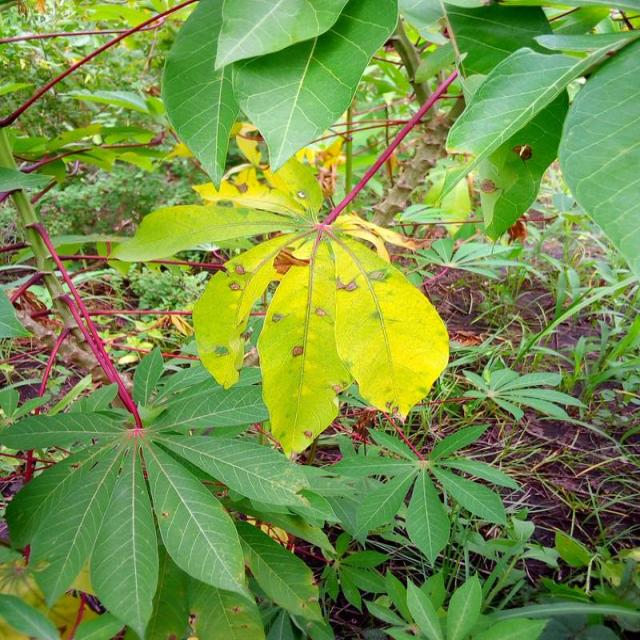cassava leaf: (328, 230, 449, 422), (556, 31, 639, 282), (255, 253, 354, 456)
